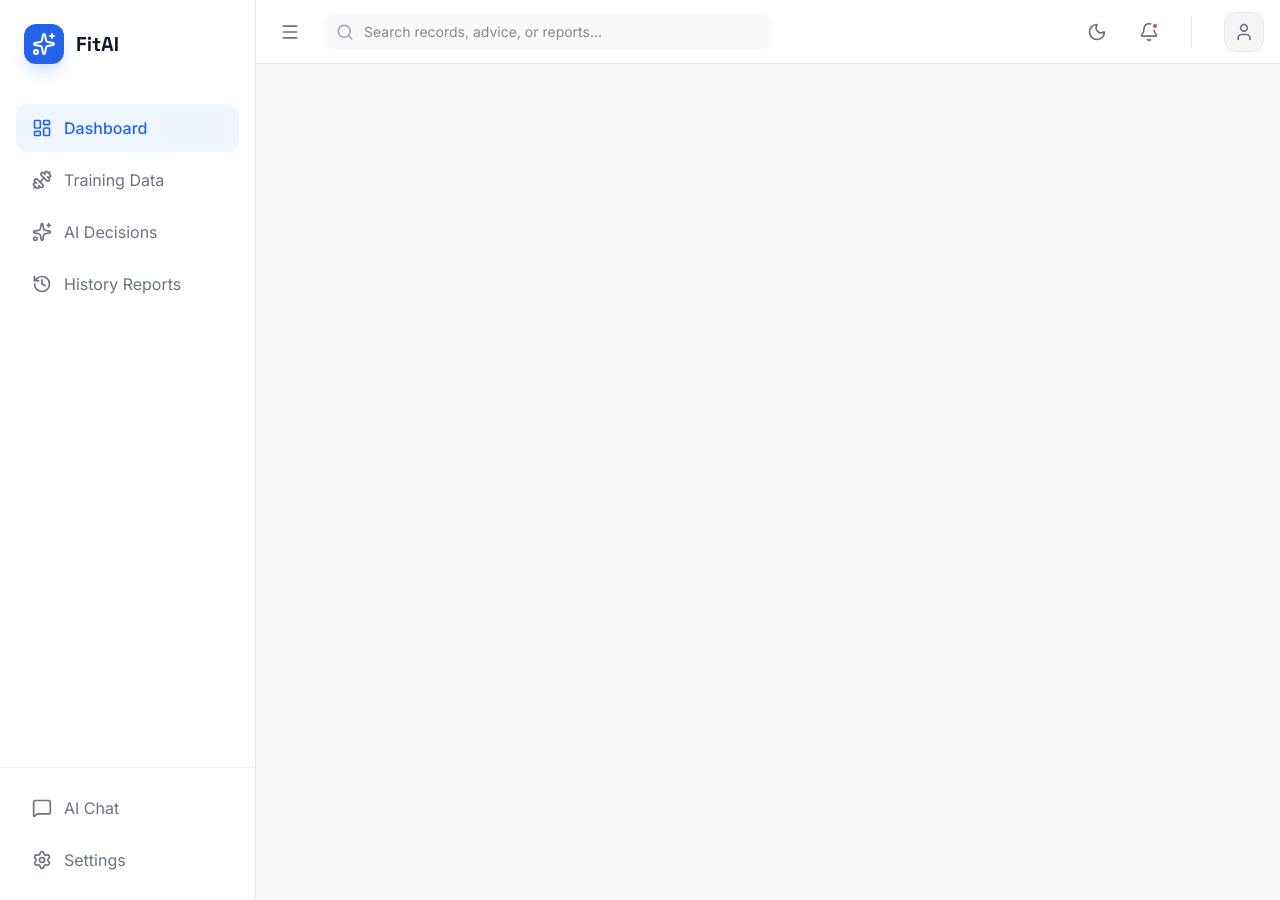
Scenario: 路由测试 › 侧边栏导航链接应该正确工作
// 点击Training Data链接
Click the link "Training Data": point(98, 180) top-left (32, 170), bottom-right (164, 190)
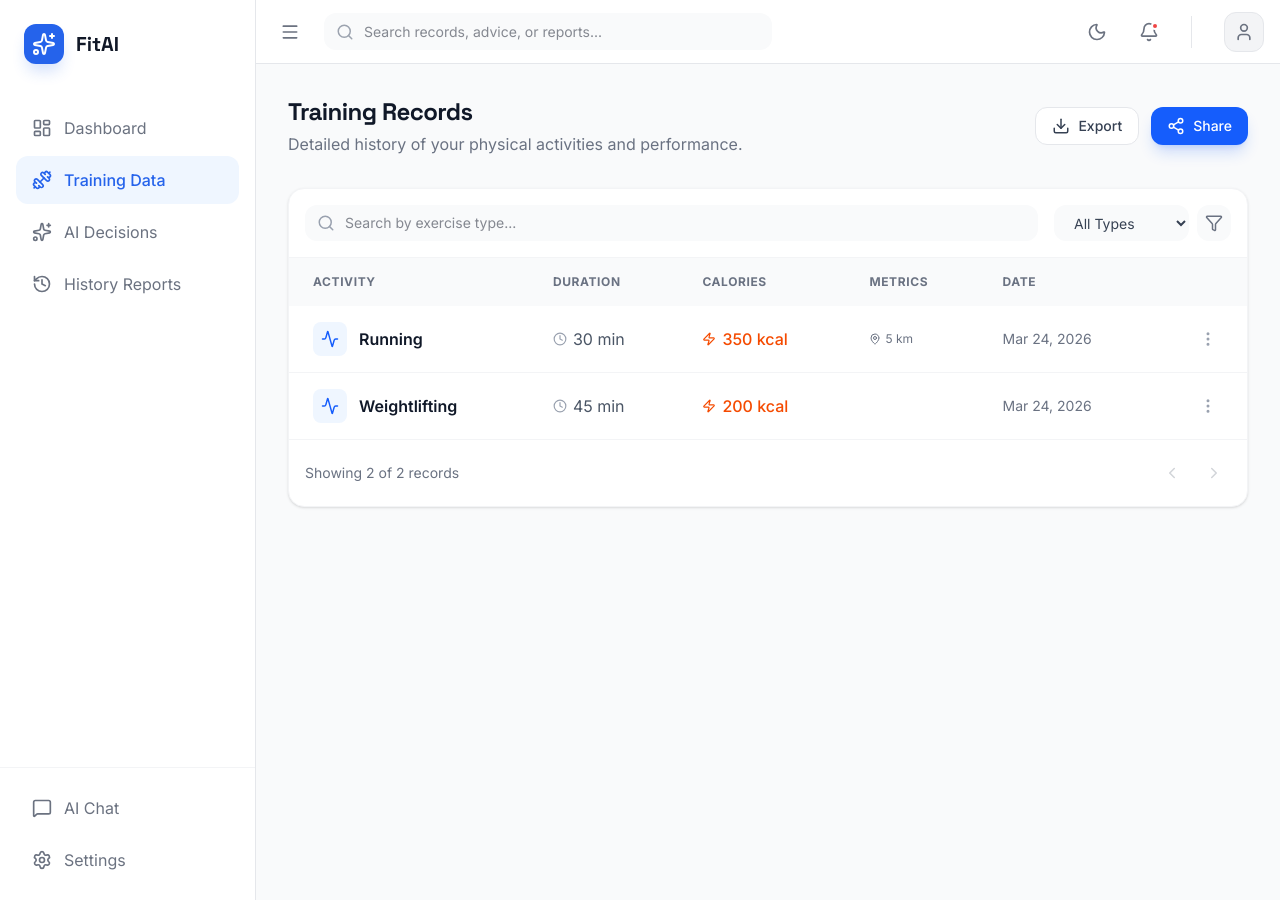
Now the heading "Training Records" is shown, box top-left (288, 96), bottom-right (472, 127)
